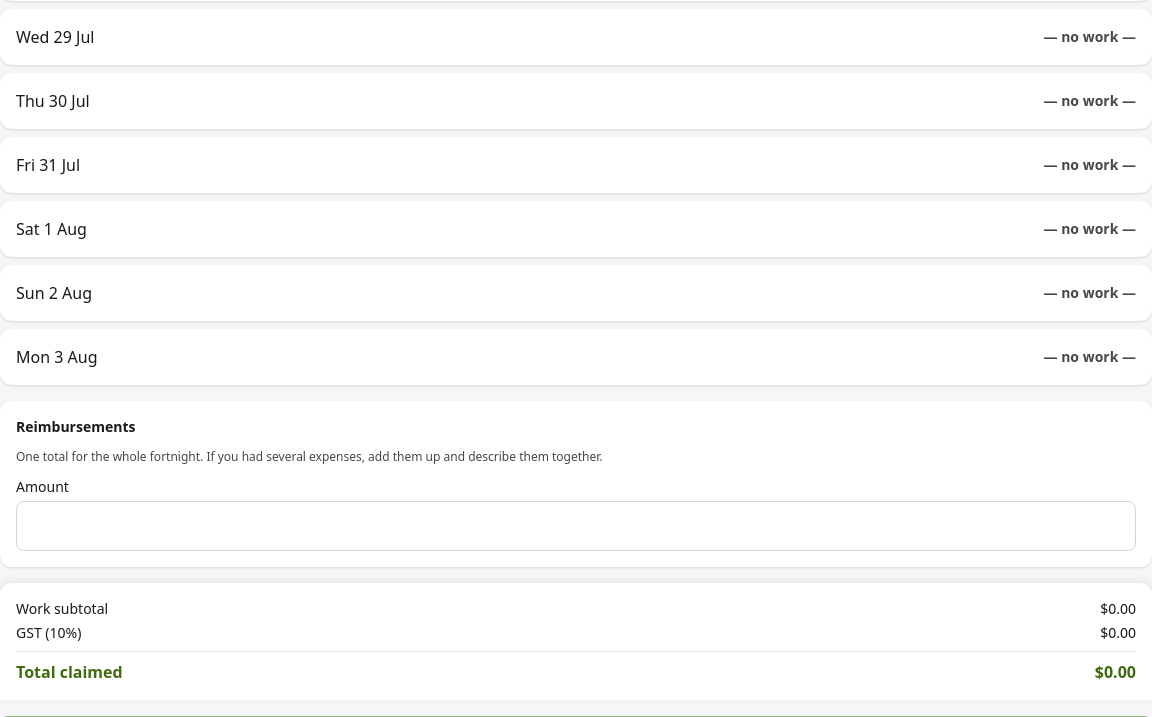
it: FortnightlyForm incomplete adjusted-shift gating › re-enables Review, and clears the alert, once hours are entered
(page scrolled)
Click the text "Mon 3 Aug" at (57,357), box [16,345,98,369]
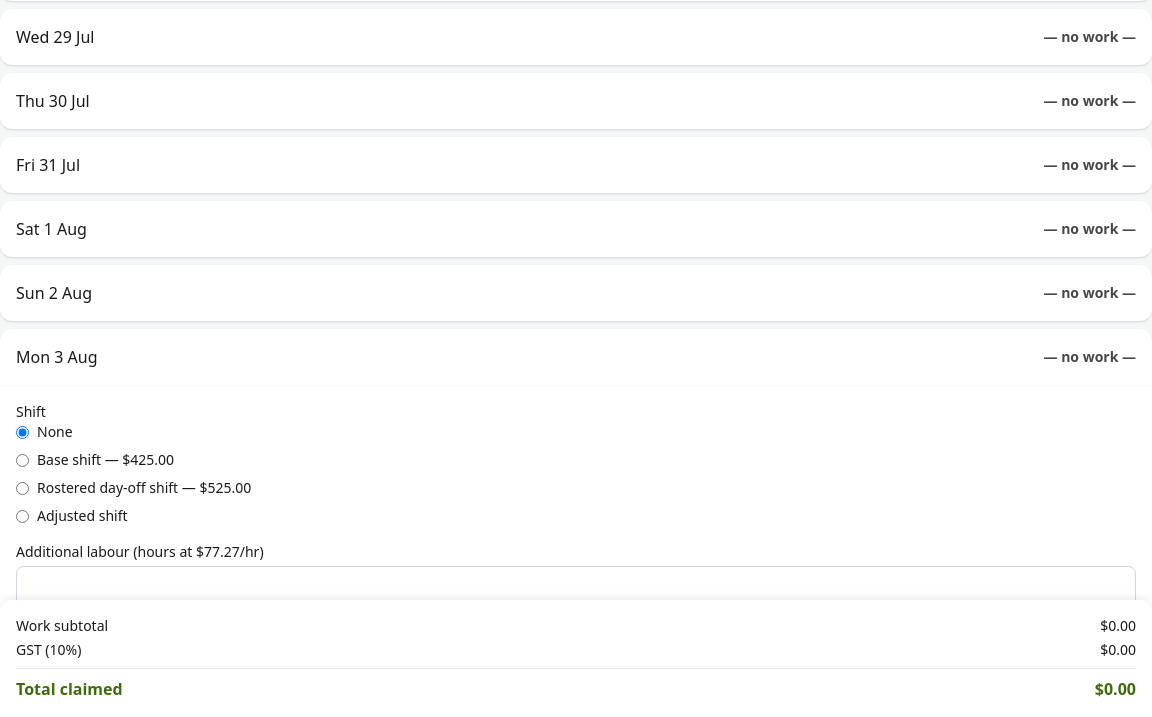
Click the radio button labelled "Adjusted shift" at (22,516), box [16,510,29,522]
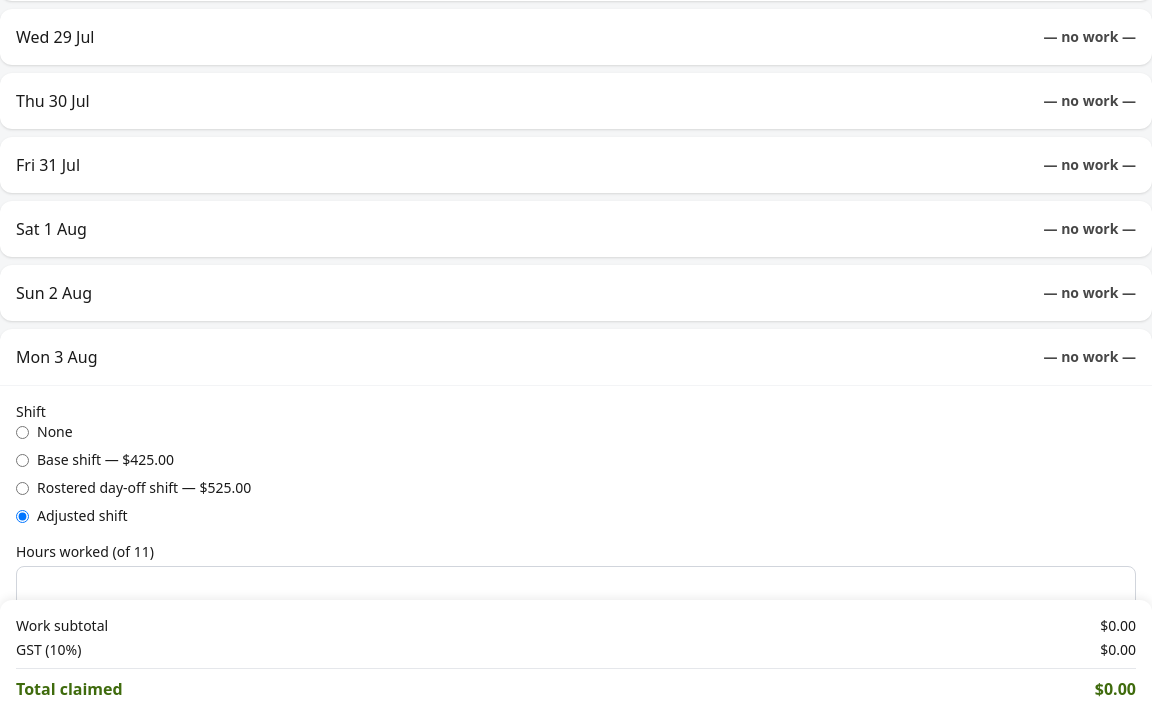
Type "6.5" into the number field labelled "Hours worked (of 11)" at (576,591), box [16,566,1136,616]
(page scrolled)
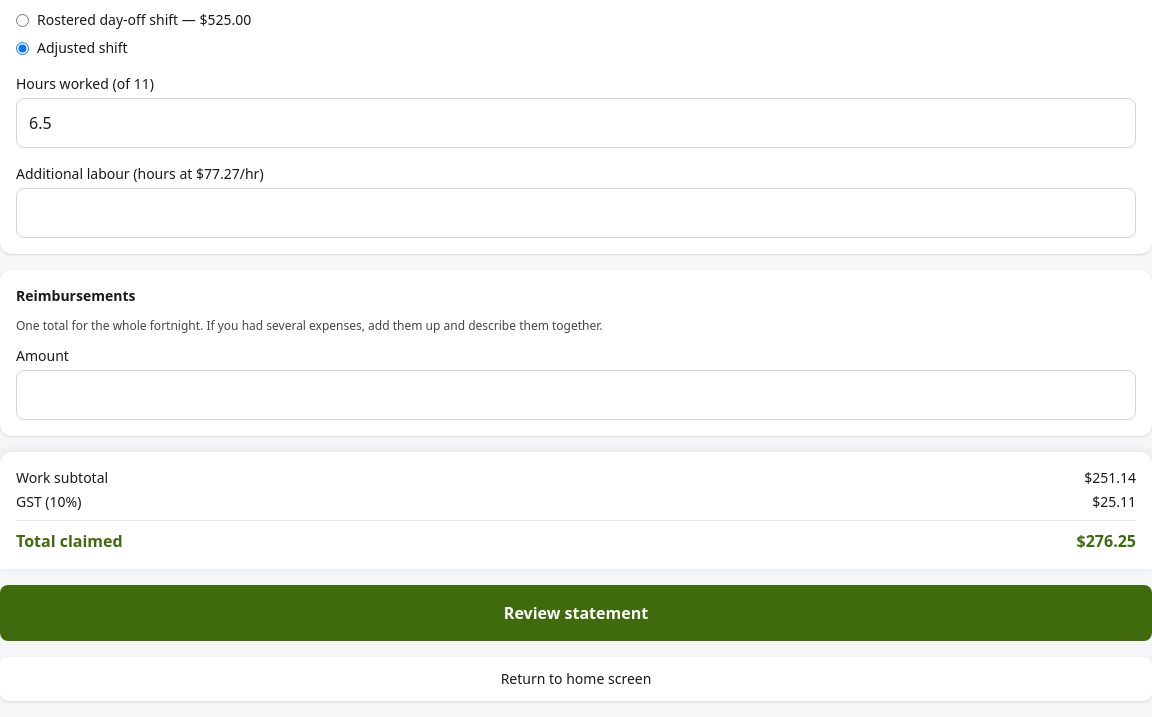
expect the button "Review statement" is enabled: met, box [0,585,1151,641]
